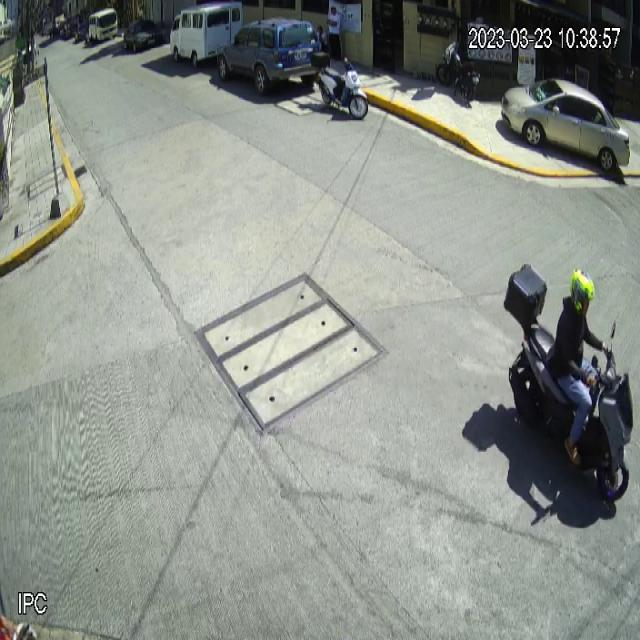Car: (501, 79, 631, 172), (216, 15, 323, 94)
Motorcycle: (503, 262, 633, 508), (312, 51, 368, 120)
Van: (169, 0, 243, 67)
